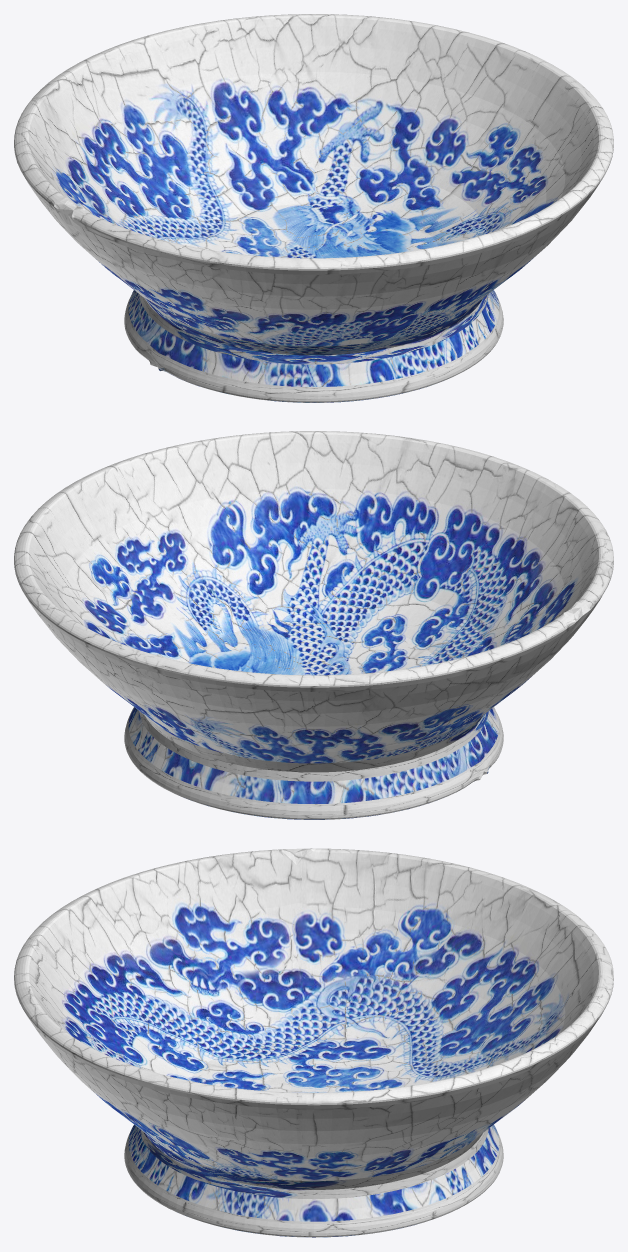
Rendered from Cup.FBX.
3 renders of one model, top to bottom at view 1: azimuth 30°, elevation 25°; view 2: azimuth 150°, elevation 25°; view 3: azimuth 270°, elevation 25°, orthographic.
Visible parts, largest first — view 1: piala01; view 2: piala01; view 3: piala01.
Part boxes in pixels (x1,y1,x2,y2): piala01: (14,14,613,402); piala01: (14,431,613,819); piala01: (14,848,613,1237).
Size of the model in its own units: 422 by 146 by 421.
1 material, 1 textured.
